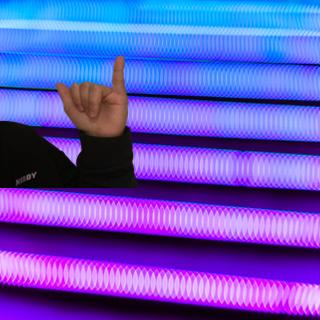HAVE: (48, 51, 137, 142)
